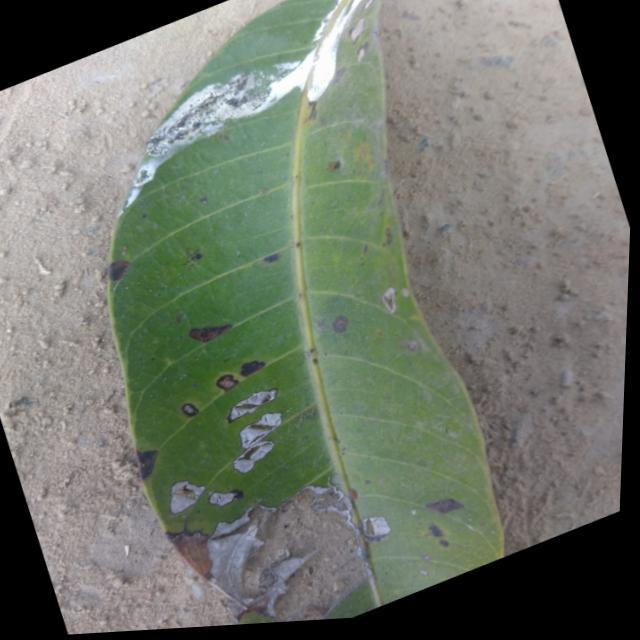Anthracnose: (209, 363, 244, 397), (176, 403, 196, 417)
Powdery Mildew: (126, 29, 355, 170), (216, 403, 301, 482), (206, 525, 272, 595), (154, 473, 215, 522), (224, 381, 286, 419), (360, 510, 395, 542)
black die: (425, 484, 478, 517), (131, 442, 170, 483), (180, 319, 226, 349), (102, 252, 136, 279), (253, 245, 285, 265), (330, 309, 354, 331)
